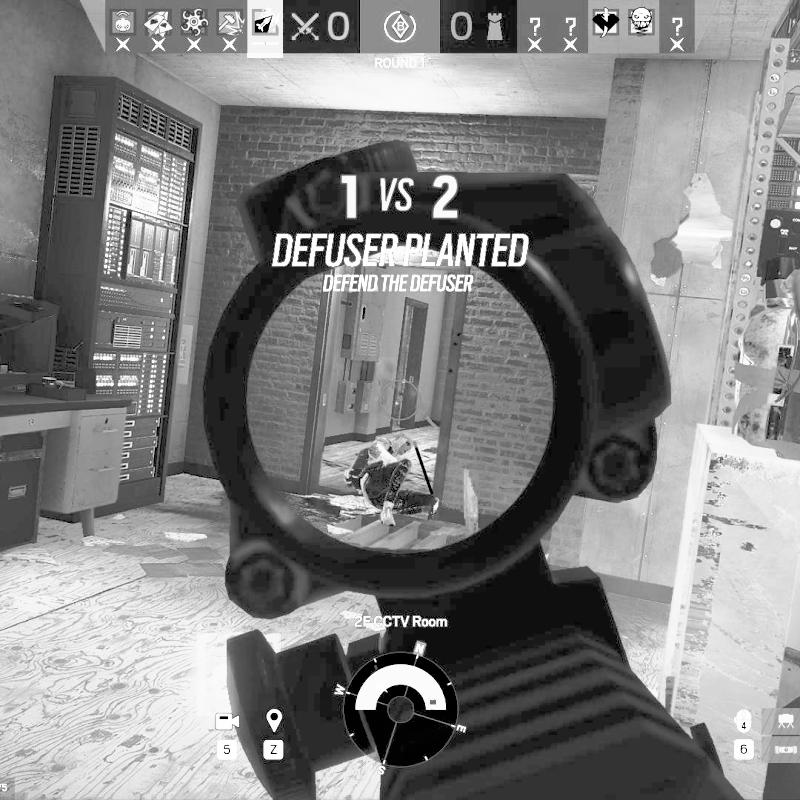Character: (347, 431, 441, 527)
Head: (388, 430, 414, 456)
